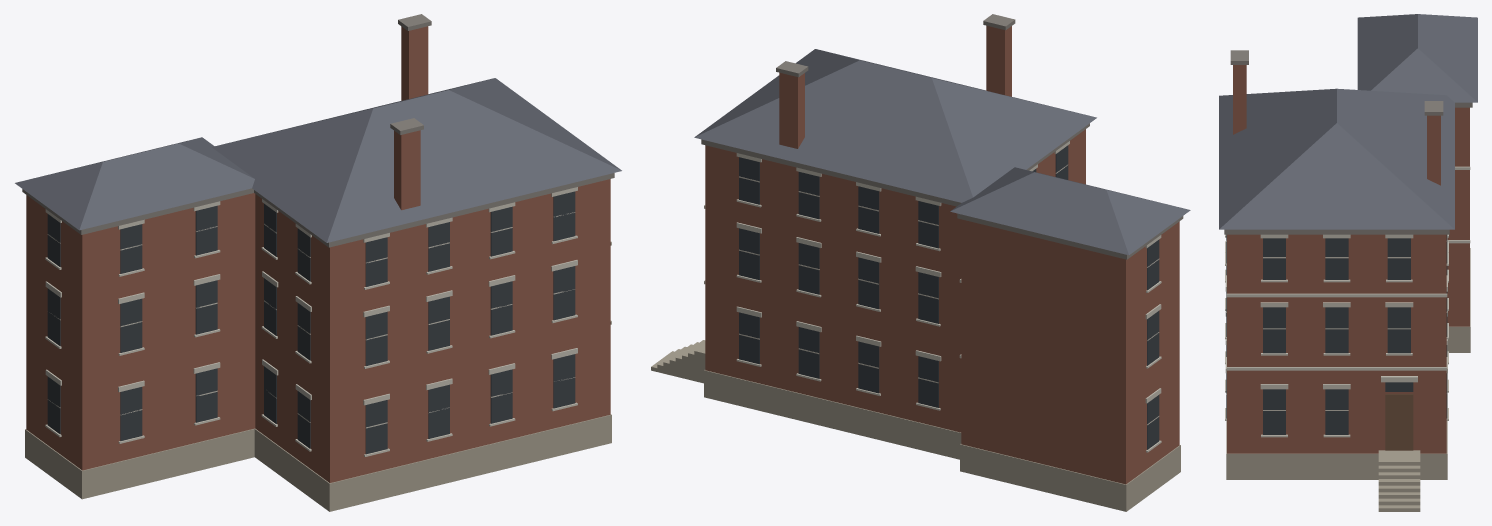
File: glessner_lee_house_1700_prairie__draft_1904.glb
3 views of the same model, side by side, from view 1: azimuth 30°, elevation 25°; view 2: azimuth 150°, elevation 25°; view 3: azimuth 270°, elevation 25° (orthographic). The views are drawn at different scales.
Visible parts, largest first — view 1: glessner_lee_house_1700_prairie__draft_1904; view 2: glessner_lee_house_1700_prairie__draft_1904; view 3: glessner_lee_house_1700_prairie__draft_1904.
Boxes of the visible parts, x1,y1,x2,y2 form: glessner_lee_house_1700_prairie__draft_1904: (15,14,621,511); glessner_lee_house_1700_prairie__draft_1904: (651,14,1190,511); glessner_lee_house_1700_prairie__draft_1904: (1219,14,1477,511).
Size of the model in its own units: 24.65 by 15.99 by 11.2.
